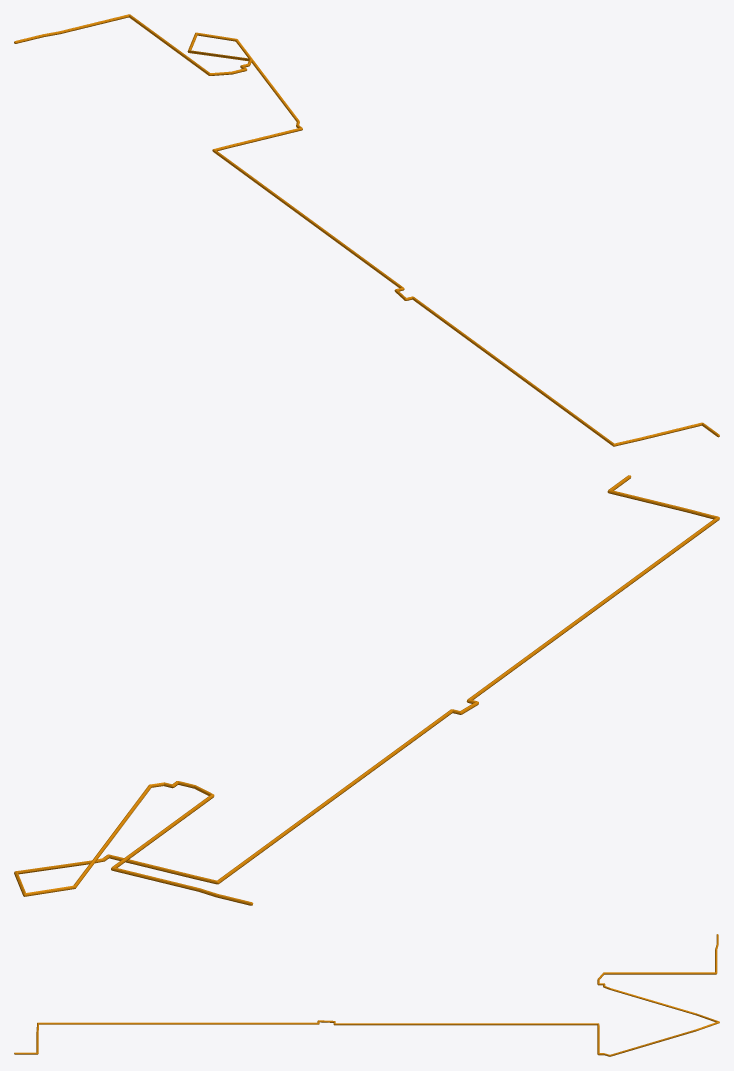
3 renders of one model, top to bottom at view 1: azimuth 30°, elevation 25°; view 2: azimuth 150°, elevation 25°; view 3: azimuth 270°, elevation 25°, orthographic. The views are drawn at different scales.
Size of the model in its own units: 1495 by 520 by 6292.
